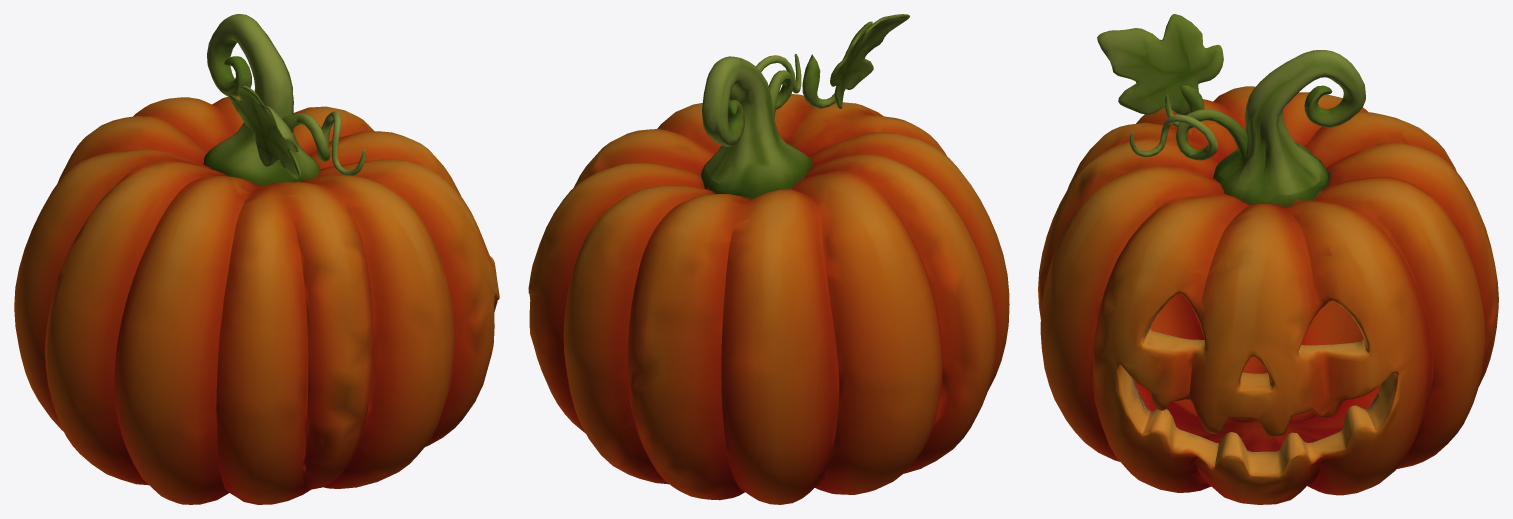
Rendered from H1_JackLanternBig_LOD0.fbx.
3 views of the same model, side by side, from view 1: azimuth 30°, elevation 25°; view 2: azimuth 150°, elevation 25°; view 3: azimuth 270°, elevation 25° (orthographic).
Parts seen in each view (by area): view 1: H1_JackLanternBig_LOD0; view 2: H1_JackLanternBig_LOD0; view 3: H1_JackLanternBig_LOD0.
Boxes of the visible parts, box(x1,y1,x2,y2) form: H1_JackLanternBig_LOD0: box(14, 14, 499, 504); H1_JackLanternBig_LOD0: box(528, 14, 1009, 504); H1_JackLanternBig_LOD0: box(1038, 14, 1498, 504).
Bounding box in the file's own units: 0.7858 × 0.75 × 0.7592.
Materials: 1 (1 with a texture image).
